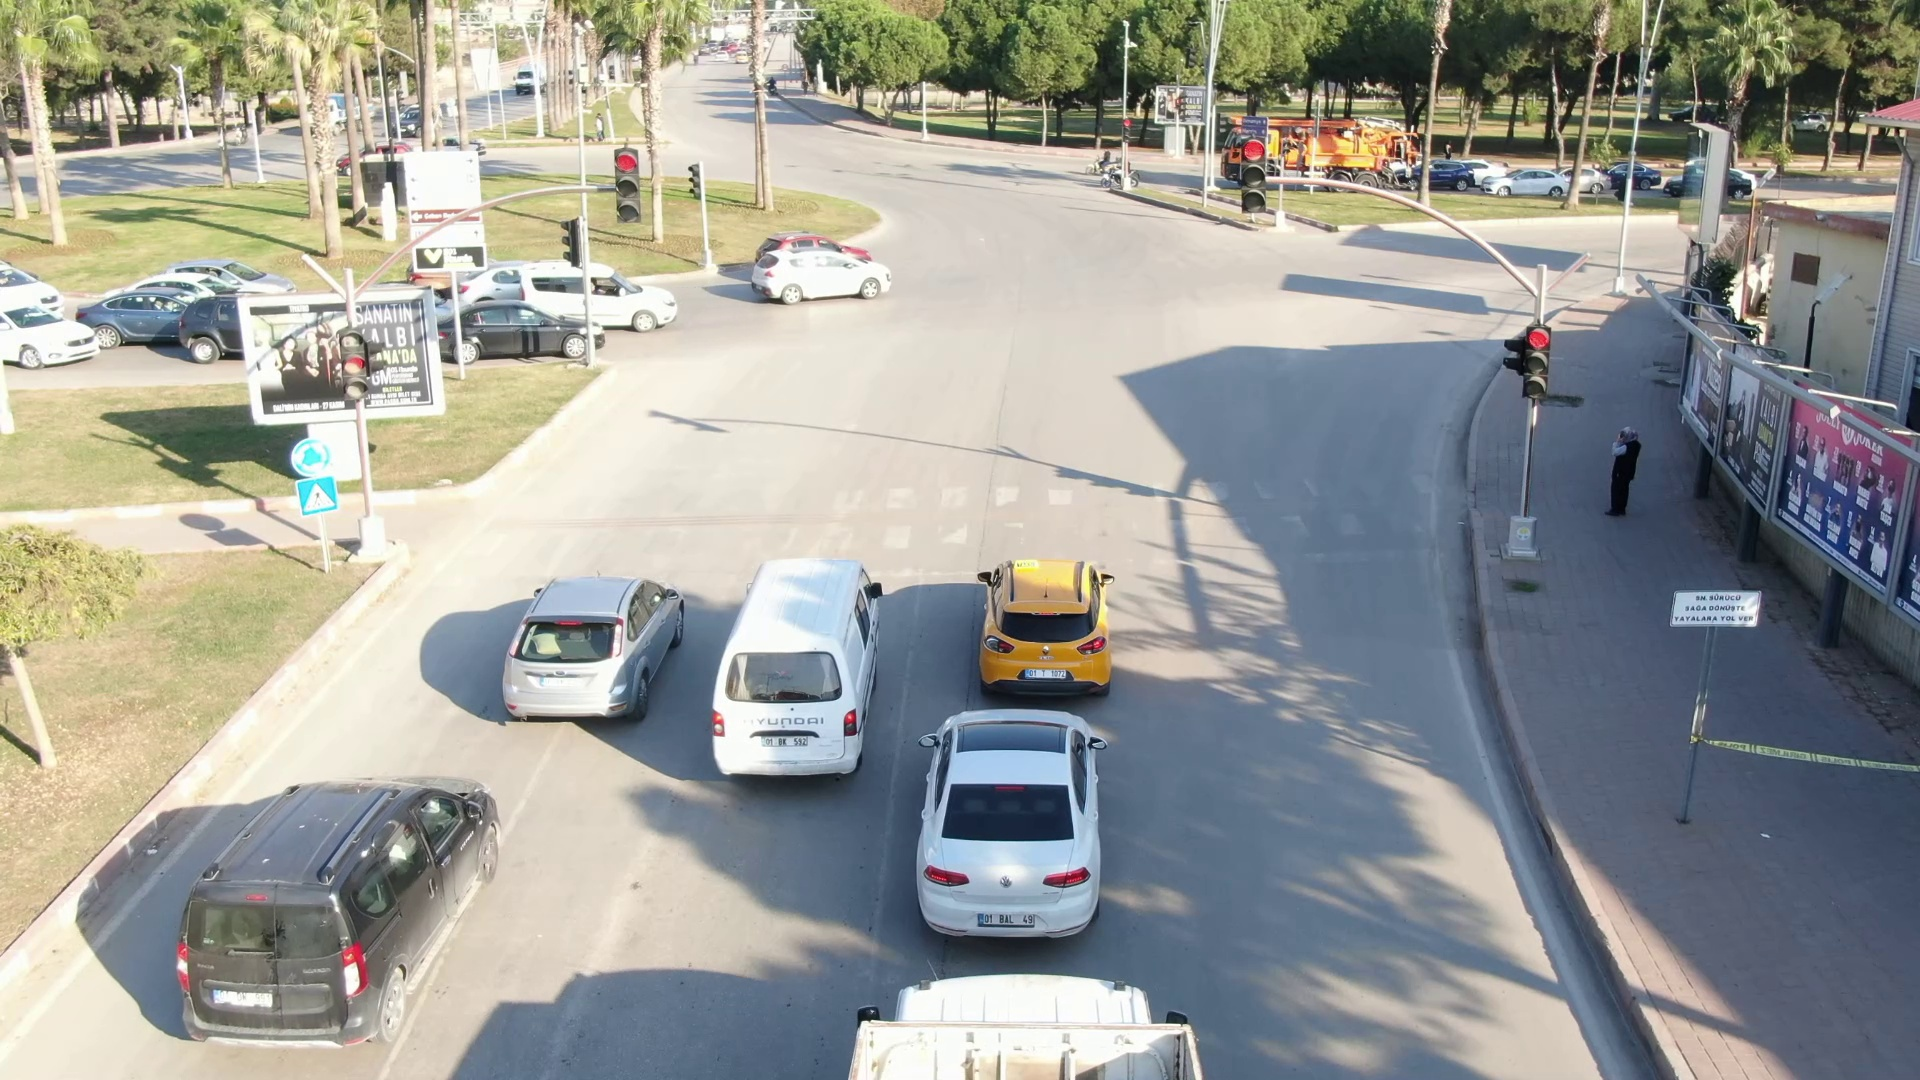car: (125, 786, 514, 1051), (690, 557, 902, 812), (908, 702, 1110, 949), (465, 572, 694, 749), (966, 549, 1115, 702), (510, 249, 676, 323), (743, 239, 890, 304)
person: (1606, 419, 1643, 525)
